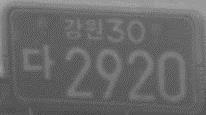0: (157, 50, 187, 101), (127, 19, 146, 43)
2: (64, 46, 94, 98), (127, 48, 155, 102)
3: (106, 18, 125, 43)
9: (96, 48, 122, 97)
강원_O: (63, 17, 104, 41)
다: (22, 45, 56, 81)
